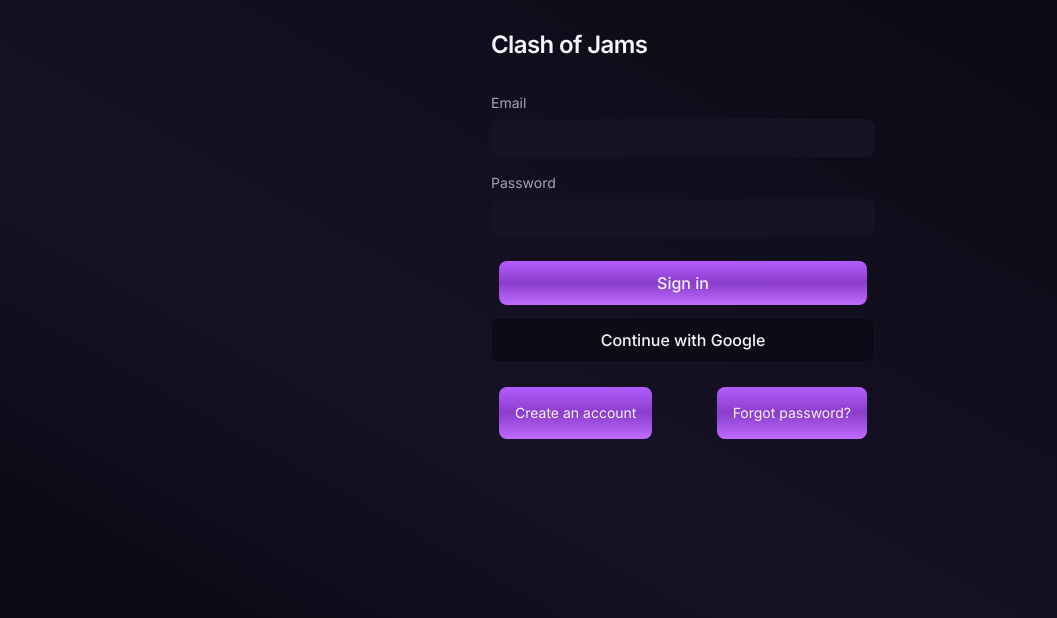
Test: Login with Google › stays on the page with a readable error when sign-in fails
Click the button "Continue with Google" at (683,340), box [491, 317, 875, 363]
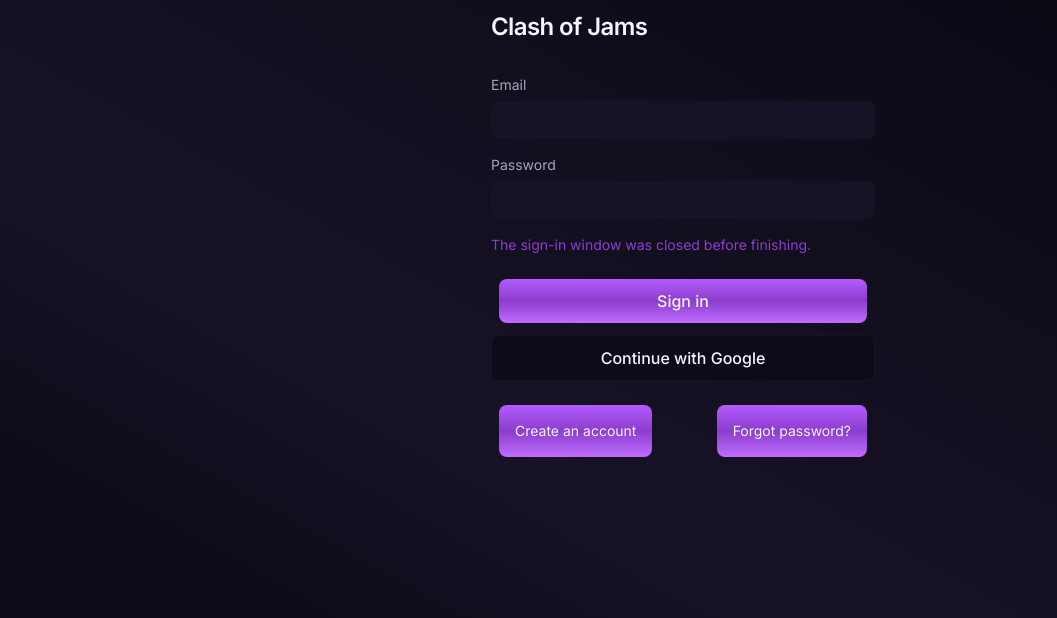
Check: the text "The sign-in window was closed before finishing." is shown, box [491, 236, 811, 253]
